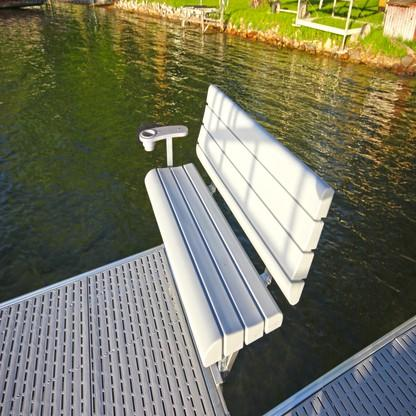obstacle: (129, 75, 341, 387)
